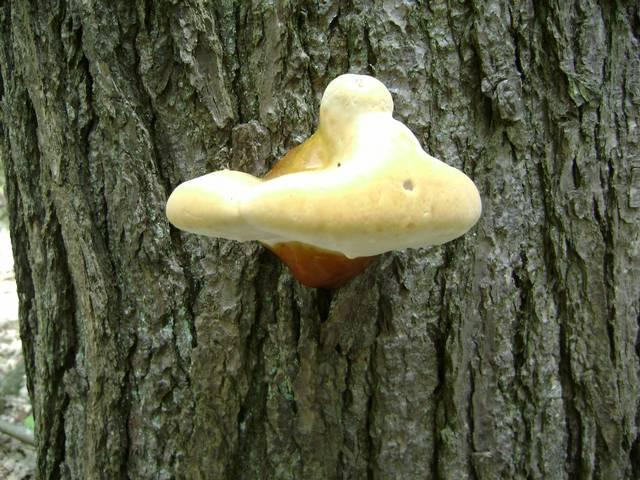Non-edible Mushroom: (164, 71, 483, 289)
